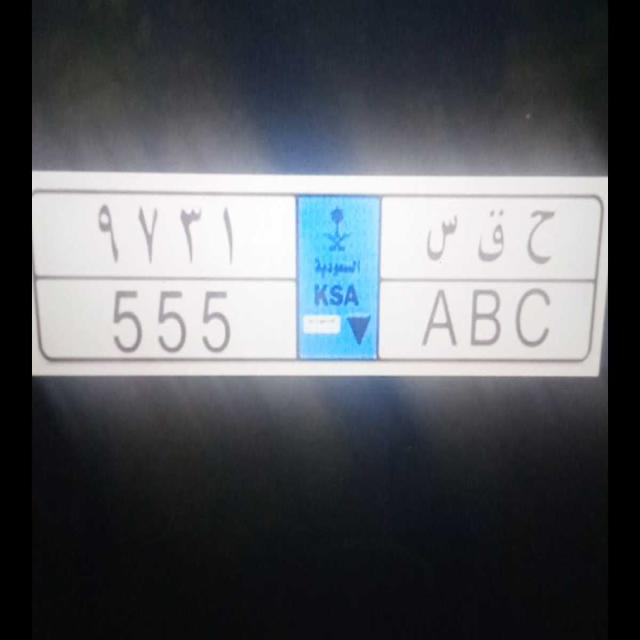license_plate: (45, 277, 576, 363)
